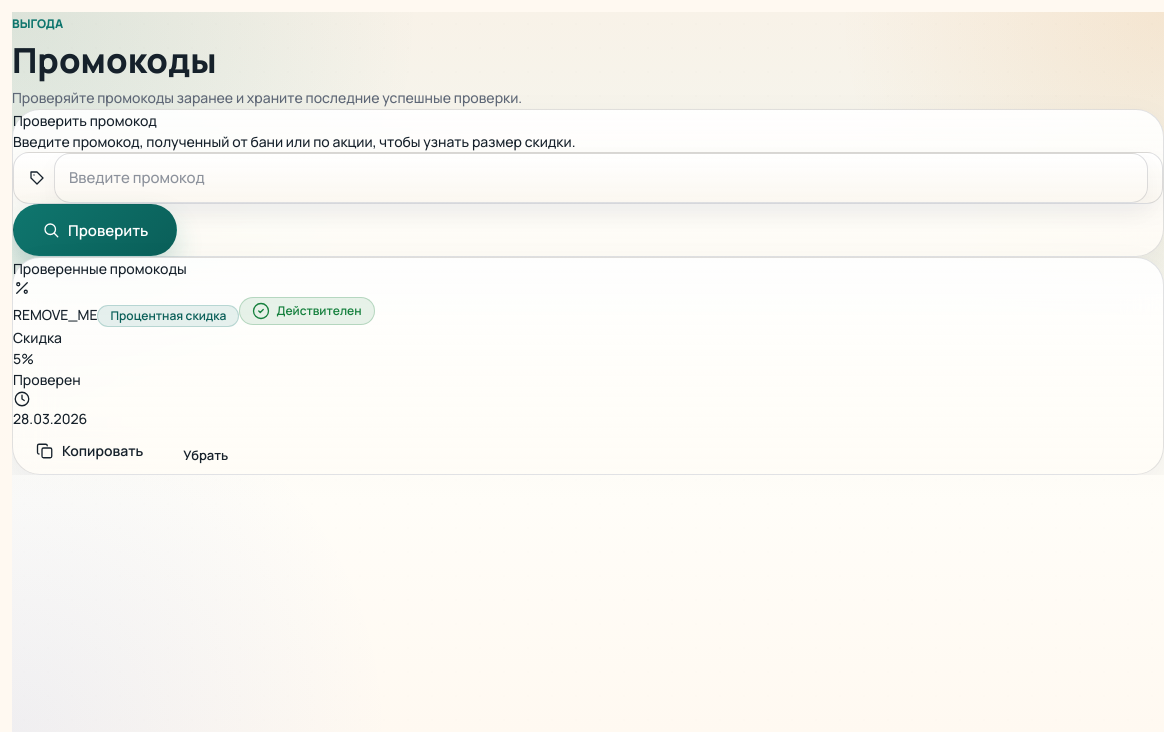
it: ActivePromoCodes › removes promo from list on remove click
Expected: the text "REMOVE_ME" is shown, top-left (13, 305), bottom-right (98, 324)
Click the button "Убрать".
click(206, 456)  # box top-left (166, 438), bottom-right (245, 474)
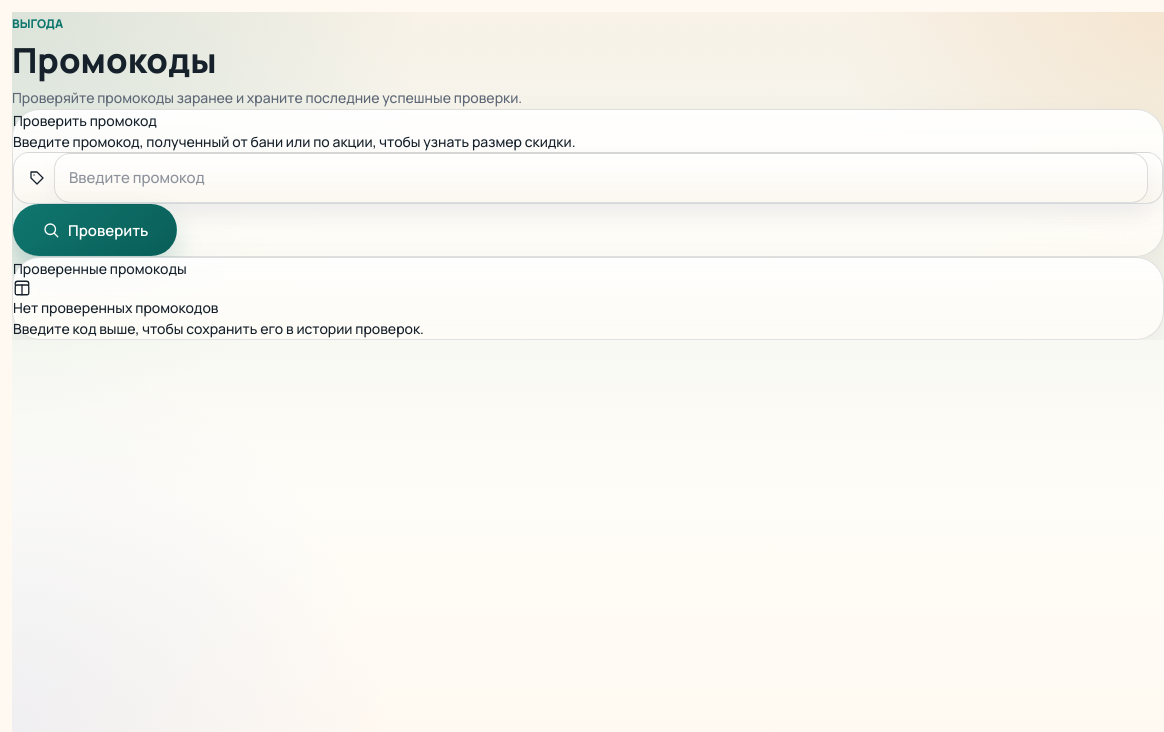
Now the text "REMOVE_ME" is gone
